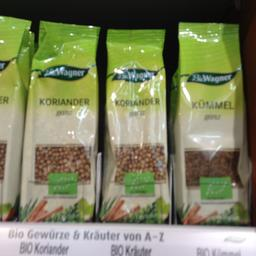spices: (174, 18, 252, 223), (20, 20, 98, 218), (100, 26, 170, 220)
